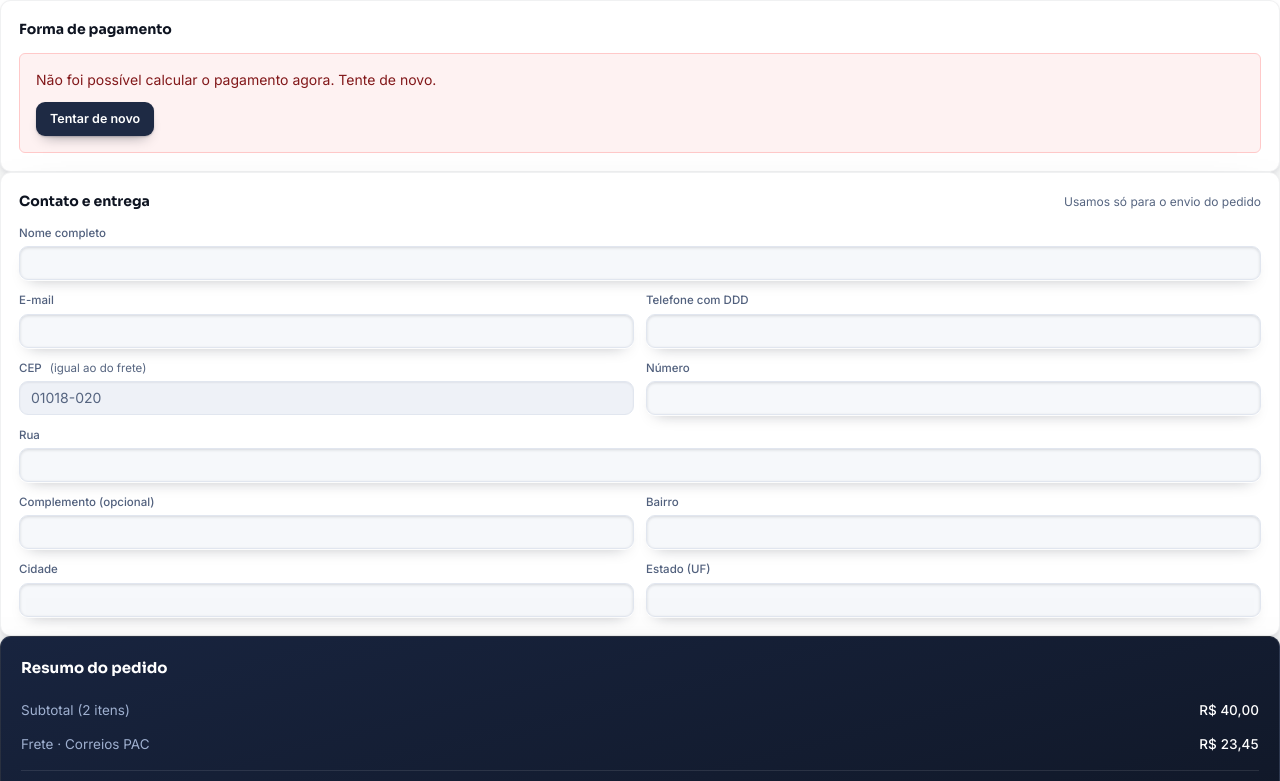
Scenario: CartCheckout: formas de pagamento › falha na cotação: alerta e botão para tentar de novo
Expected: the message shows "Não foi possível calcular o pagamento agora.", [36, 71, 436, 88]
What coordinates should you click on to do the following:
click the button "Tentar de novo"
I would click on:
 (95, 119)
Its box is [36, 102, 154, 136].
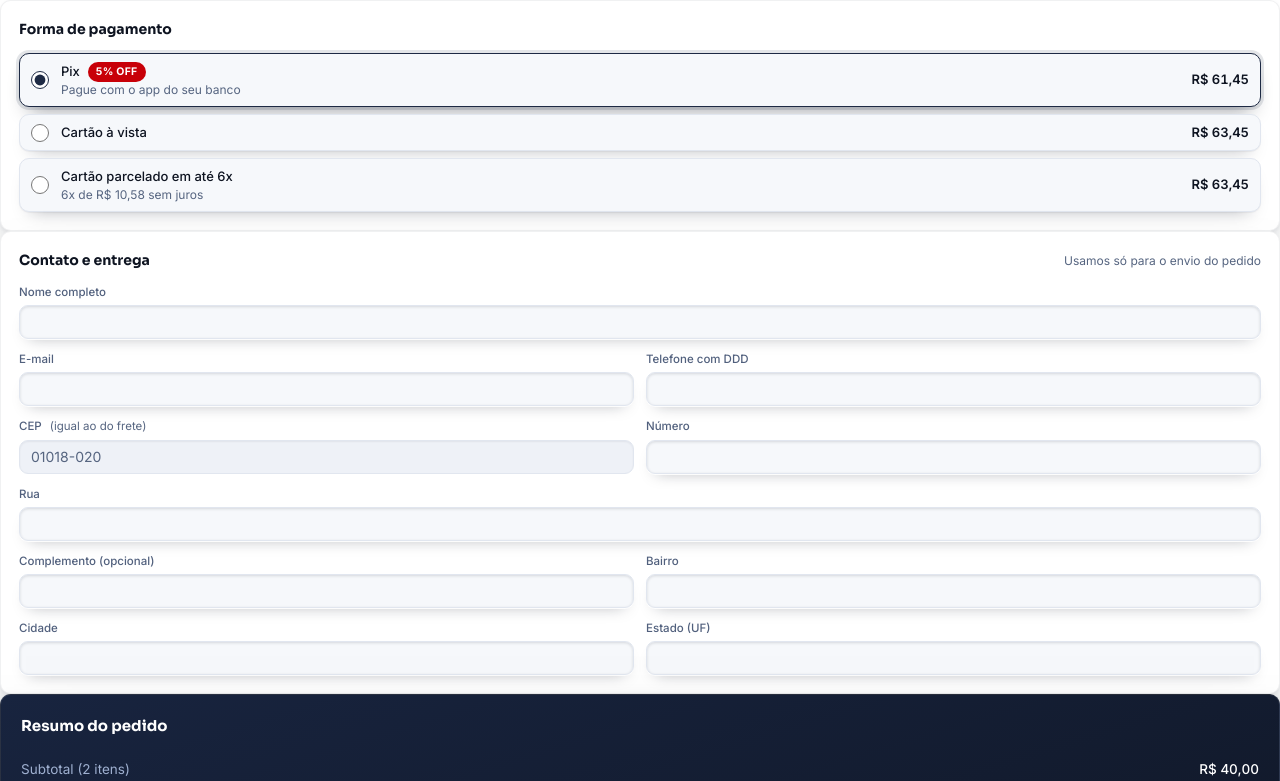
Now the element named "Forma de pagamento" is shown, box [19, 53, 1261, 212]
